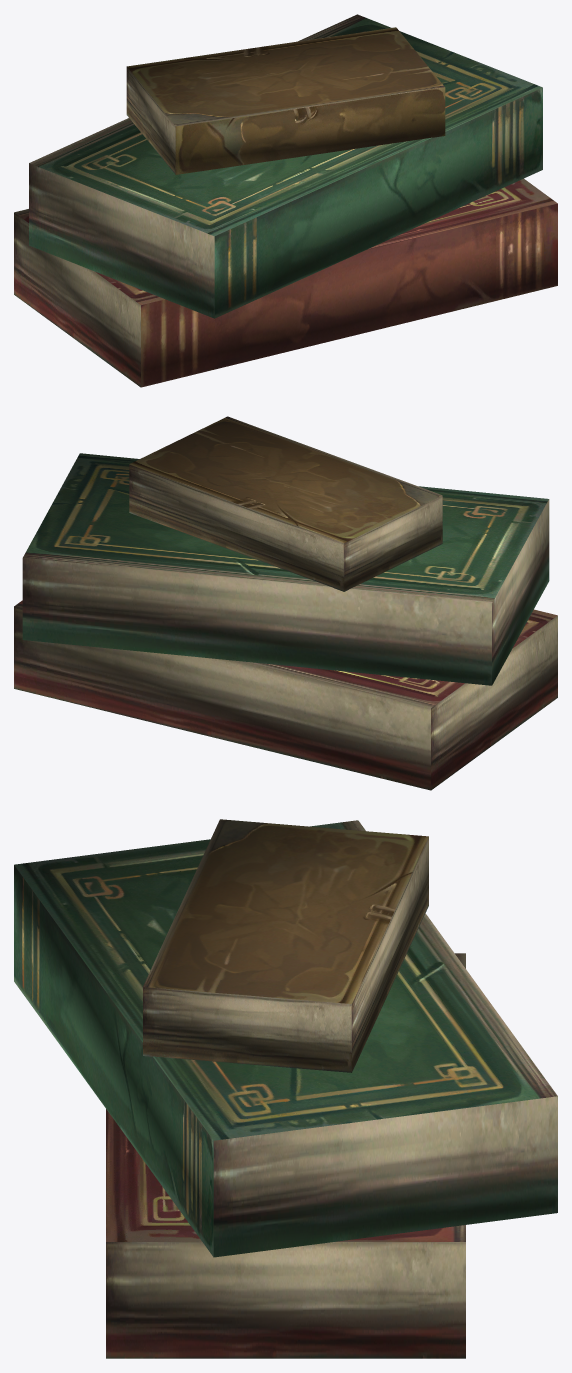
File: generalbookstackshort01.obj
3 views of the same model, one above another, from view 1: azimuth 30°, elevation 25°; view 2: azimuth 150°, elevation 25°; view 3: azimuth 270°, elevation 25° (orthographic). The views are drawn at different scales.
Parts seen in each view (by area): view 1: generalbookstackshort01; view 2: generalbookstackshort01; view 3: generalbookstackshort01.
Boxes of the visible parts, left/top/right/bottom form: generalbookstackshort01: left=14, top=14, right=557, bottom=387; generalbookstackshort01: left=14, top=416, right=557, bottom=790; generalbookstackshort01: left=14, top=819, right=557, bottom=1358.
Size of the model in its own units: 0.7949 by 0.3501 by 0.5701.
Materials: 1 (1 with a texture image).
